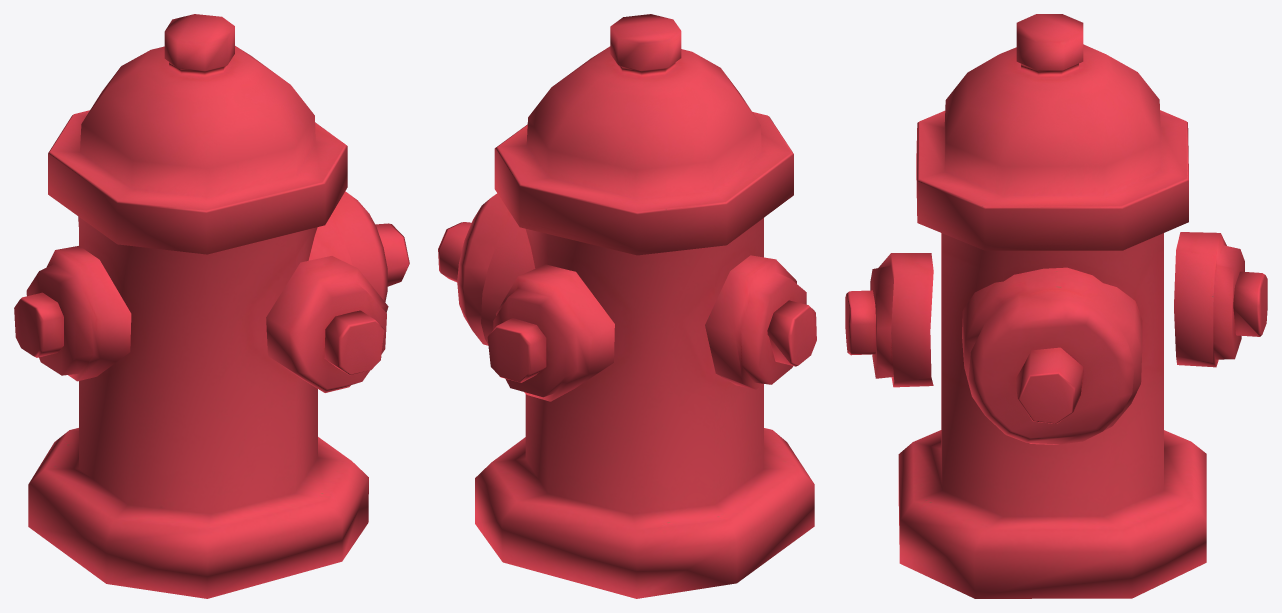
The model's file is hydrant.glb.
3 renders of one model, left to right at view 1: azimuth 30°, elevation 25°; view 2: azimuth 150°, elevation 25°; view 3: azimuth 270°, elevation 25°, orthographic.
Visible parts, largest first — view 1: tripo_node_91abb316-b293-4dad-bac4-71319b9ce4ca; view 2: tripo_node_91abb316-b293-4dad-bac4-71319b9ce4ca; view 3: tripo_node_91abb316-b293-4dad-bac4-71319b9ce4ca.
Boxes of the visible parts, box(x1,y1,x2,y2) form: tripo_node_91abb316-b293-4dad-bac4-71319b9ce4ca: box(14, 14, 409, 598); tripo_node_91abb316-b293-4dad-bac4-71319b9ce4ca: box(438, 14, 816, 598); tripo_node_91abb316-b293-4dad-bac4-71319b9ce4ca: box(845, 14, 1267, 598).
Bounding box in the file's own units: 0.7598 × 0.998 × 0.7559.
Materials: 1 (1 with a texture image).
